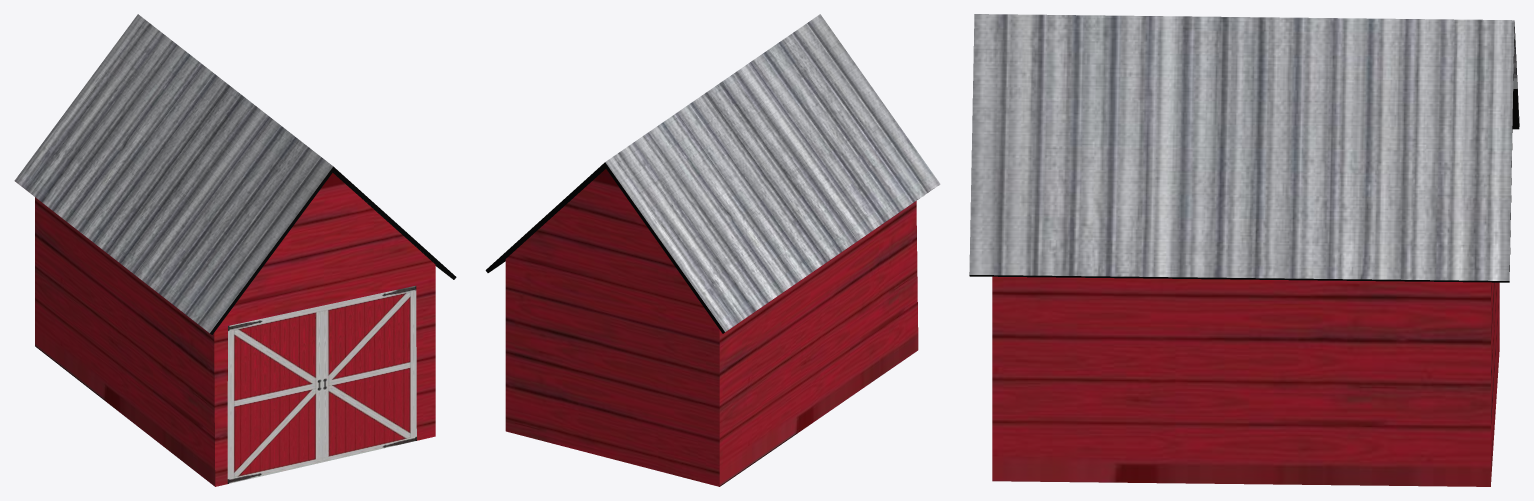
File: barn_red.fbx
3 views of the same model, side by side, from view 1: azimuth 30°, elevation 25°; view 2: azimuth 150°, elevation 25°; view 3: azimuth 270°, elevation 25° (orthographic). The views are drawn at different scales.
Parts seen in each view (by area): view 1: Plane.003; view 2: Plane.003; view 3: Plane.003.
Boxes of the visible parts, box(x1,y1,x2,y2) form: Plane.003: box(14, 14, 456, 486); Plane.003: box(485, 14, 940, 486); Plane.003: box(969, 14, 1519, 486).
Size of the model in its own units: 1519 by 1733 by 2175.
